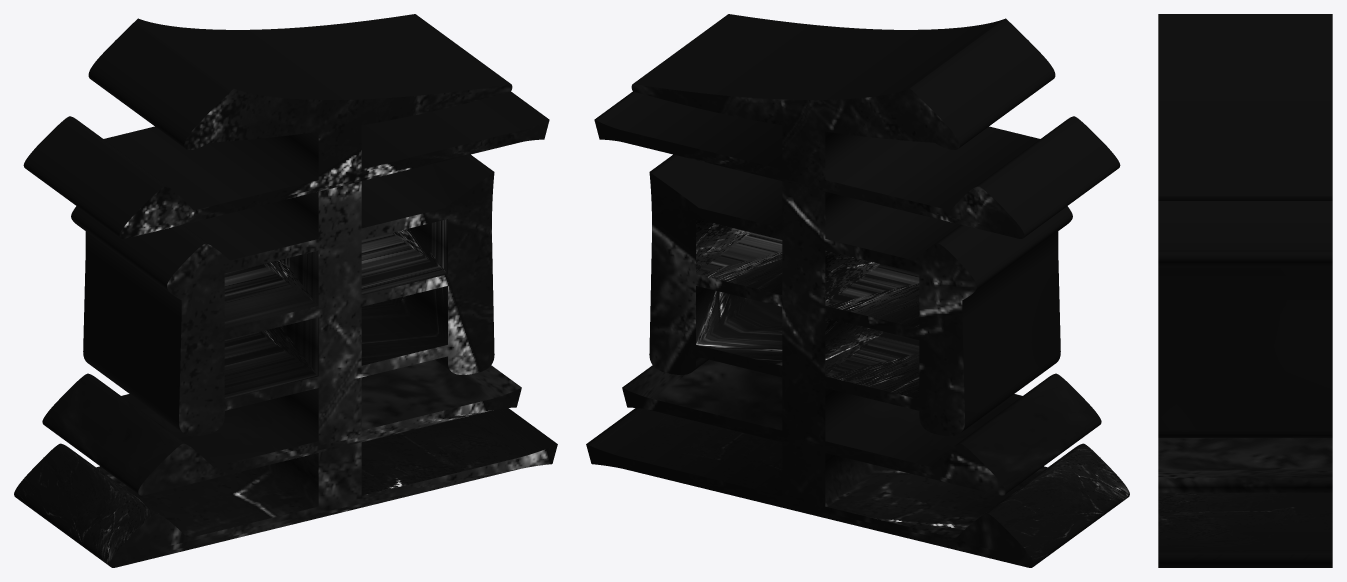
Rendered from JYUU.obj.
3 views of the same model, side by side, from view 1: azimuth 30°, elevation 25°; view 2: azimuth 150°, elevation 25°; view 3: azimuth 270°, elevation 25° (orthographic). The views are drawn at different scales.
Parts seen in each view (by area): view 1: jyuu; view 2: jyuu; view 3: jyuu.
Boxes of the visible parts, <box> form: jyuu: <box>14,14,557,567</box>; jyuu: <box>586,14,1129,567</box>; jyuu: <box>1158,14,1332,567</box>.
Bounding box in the file's own units: 5.4 × 5.22 × 2.
1 material, 1 textured.
